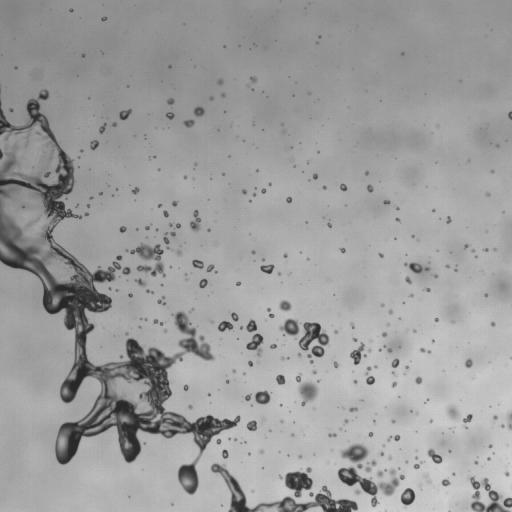droplet: (337, 444, 404, 506), (279, 318, 329, 363), (468, 476, 511, 511), (128, 243, 165, 276), (296, 374, 318, 406), (350, 343, 364, 364), (401, 488, 415, 506), (254, 390, 270, 404), (446, 405, 460, 420), (404, 262, 423, 273), (218, 321, 233, 331), (364, 460, 376, 472), (279, 300, 291, 311), (260, 264, 274, 273), (119, 109, 131, 119), (192, 259, 203, 268), (276, 374, 285, 385), (194, 107, 204, 116), (247, 420, 256, 430), (462, 414, 472, 422), (90, 140, 98, 149), (199, 278, 207, 287), (157, 296, 165, 305), (230, 312, 238, 321), (391, 358, 399, 367), (441, 478, 450, 486), (184, 120, 194, 127), (99, 123, 106, 133), (135, 279, 145, 286), (465, 358, 472, 367), (166, 112, 174, 119), (415, 376, 422, 384), (376, 470, 384, 477), (222, 449, 228, 458), (250, 76, 257, 83), (132, 187, 139, 194), (167, 98, 174, 104), (340, 184, 346, 191), (367, 185, 373, 192), (119, 226, 126, 232), (207, 264, 213, 271), (405, 277, 411, 283), (163, 210, 168, 217), (328, 433, 336, 437), (245, 394, 250, 400), (215, 439, 221, 444), (21, 204, 28, 208), (447, 216, 451, 223), (349, 407, 356, 411), (286, 197, 291, 202), (172, 201, 177, 206), (176, 250, 181, 255), (504, 471, 509, 476), (313, 173, 317, 179), (384, 200, 390, 204), (270, 344, 276, 348), (334, 361, 338, 367), (101, 16, 106, 20), (218, 79, 222, 84), (242, 189, 246, 194), (261, 188, 265, 193), (176, 223, 180, 228), (340, 248, 345, 252), (350, 322, 354, 327), (382, 332, 386, 337), (248, 361, 252, 366), (405, 365, 409, 370), (392, 371, 396, 376), (392, 382, 396, 387), (184, 385, 188, 390), (368, 432, 373, 436), (423, 288, 429, 291), (146, 290, 152, 293), (69, 8, 73, 12), (221, 93, 225, 97), (112, 122, 116, 126), (322, 185, 326, 189), (395, 218, 399, 222), (327, 222, 331, 226), (171, 232, 175, 236), (464, 244, 468, 248), (251, 250, 255, 254), (283, 253, 287, 257), (379, 253, 383, 257), (236, 281, 240, 285), (128, 293, 132, 297), (189, 308, 193, 312), (388, 310, 392, 314), (491, 322, 495, 326), (387, 348, 391, 352), (312, 370, 316, 374), (493, 415, 497, 419), (344, 419, 348, 423), (39, 159, 44, 162), (9, 108, 13, 111), (145, 226, 149, 229), (433, 274, 437, 277), (163, 329, 167, 332), (259, 450, 263, 453), (210, 97, 213, 100), (365, 171, 368, 174), (158, 204, 161, 207), (85, 212, 88, 215), (29, 222, 32, 225), (484, 248, 487, 251), (446, 264, 449, 267), (435, 318, 438, 321), (353, 338, 356, 341), (298, 353, 301, 356), (354, 380, 357, 383), (429, 419, 432, 422), (380, 452, 383, 455), (298, 455, 301, 458), (388, 456, 391, 459), (487, 457, 490, 460), (474, 461, 477, 464), (253, 192, 255, 196), (487, 192, 489, 196), (409, 294, 413, 296), (184, 176, 187, 178), (99, 192, 101, 195), (90, 196, 92, 199), (87, 204, 89, 207), (432, 209, 435, 211), (169, 224, 172, 226), (472, 249, 474, 252), (426, 267, 428, 270), (278, 272, 280, 275), (484, 294, 487, 296), (381, 303, 383, 306), (335, 330, 337, 333), (368, 349, 371, 351), (374, 365, 376, 368), (189, 405, 191, 408), (489, 445, 492, 447), (415, 456, 417, 459), (82, 54, 84, 56), (269, 183, 271, 185), (396, 207, 398, 209), (34, 220, 36, 222), (411, 235, 413, 237), (262, 259, 264, 261), (282, 357, 284, 359), (233, 370, 235, 372), (226, 380, 228, 382), (426, 399, 428, 401), (392, 420, 394, 422)
ligament: (0, 92, 240, 495), (210, 463, 357, 511), (246, 319, 263, 355), (190, 210, 201, 231), (427, 448, 442, 463), (501, 412, 511, 430), (365, 366, 374, 385), (163, 234, 169, 248), (387, 435, 400, 441), (413, 461, 423, 468), (267, 308, 274, 317), (153, 319, 162, 325), (424, 474, 430, 483), (420, 348, 430, 353), (0, 150, 3, 159), (508, 111, 511, 119), (0, 87, 1, 92)
